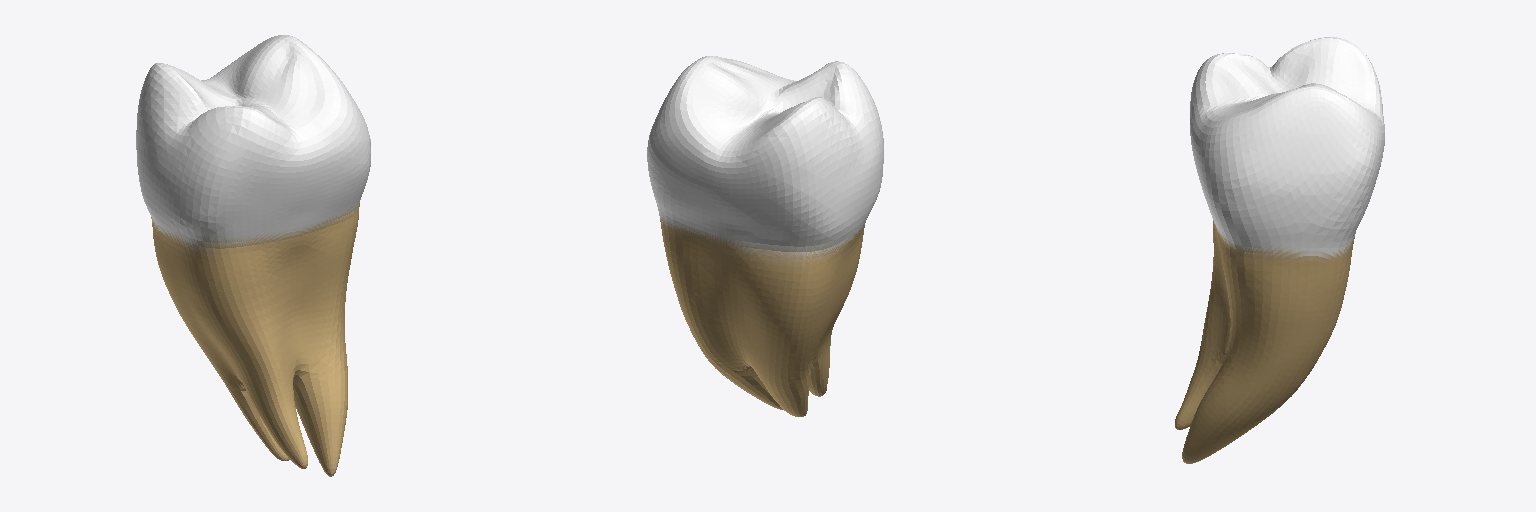
3 views of the same model, side by side, from view 1: azimuth 30°, elevation 25°; view 2: azimuth 150°, elevation 25°; view 3: azimuth 270°, elevation 25° (orthographic).
Visible parts, largest first — view 1: outer; view 2: outer; view 3: outer.
Boxes of the visible parts, <box> form: outer: <box>136,35,370,476</box>; outer: <box>647,56,883,416</box>; outer: <box>1175,37,1384,463</box>.
Bounding box in the file's own units: 3.82 × 7.21 × 3.55.
2 materials, 1 textured.